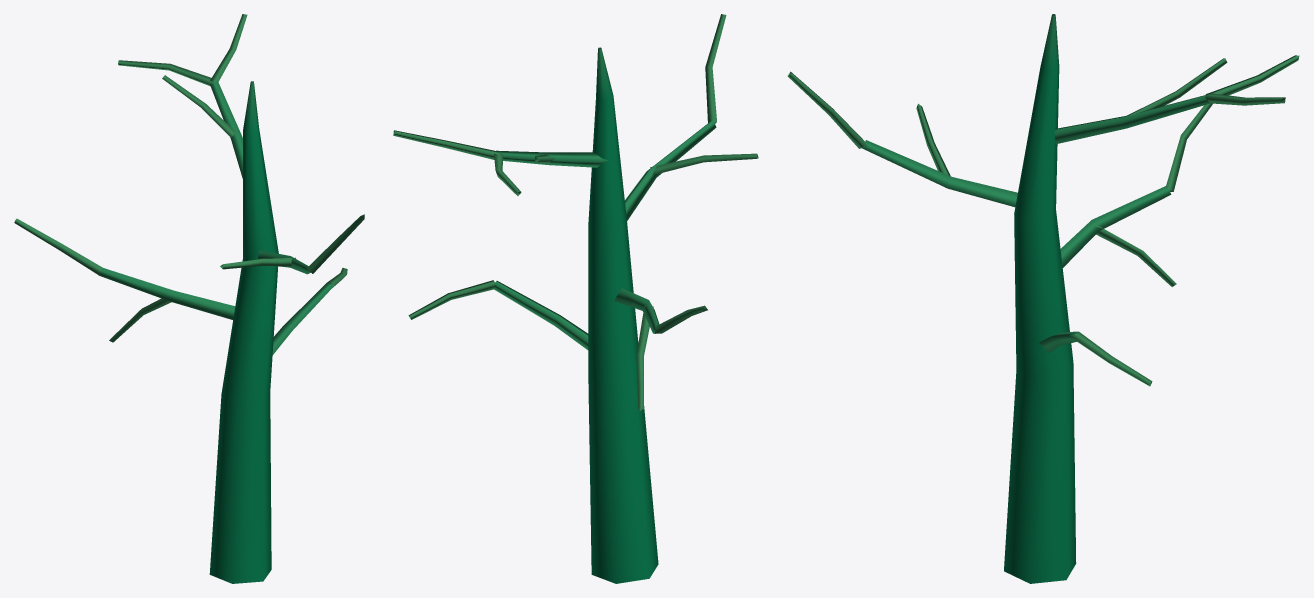
Rendered from tree_dead_lod1.glb.
3 views of the same model, side by side, from view 1: azimuth 30°, elevation 25°; view 2: azimuth 150°, elevation 25°; view 3: azimuth 270°, elevation 25° (orthographic). The views are drawn at different scales.
Parts seen in each view (by area): view 1: tree_dead_bark.001_lod1; view 2: tree_dead_bark.001_lod1; view 3: tree_dead_bark.001_lod1.
Part boxes in pixels (x1,y1,x2,y2): tree_dead_bark.001_lod1: [14, 14, 364, 583]; tree_dead_bark.001_lod1: [393, 14, 758, 583]; tree_dead_bark.001_lod1: [787, 14, 1299, 583].
Size of the model in its own units: 4.18 by 6.32 by 5.2.
